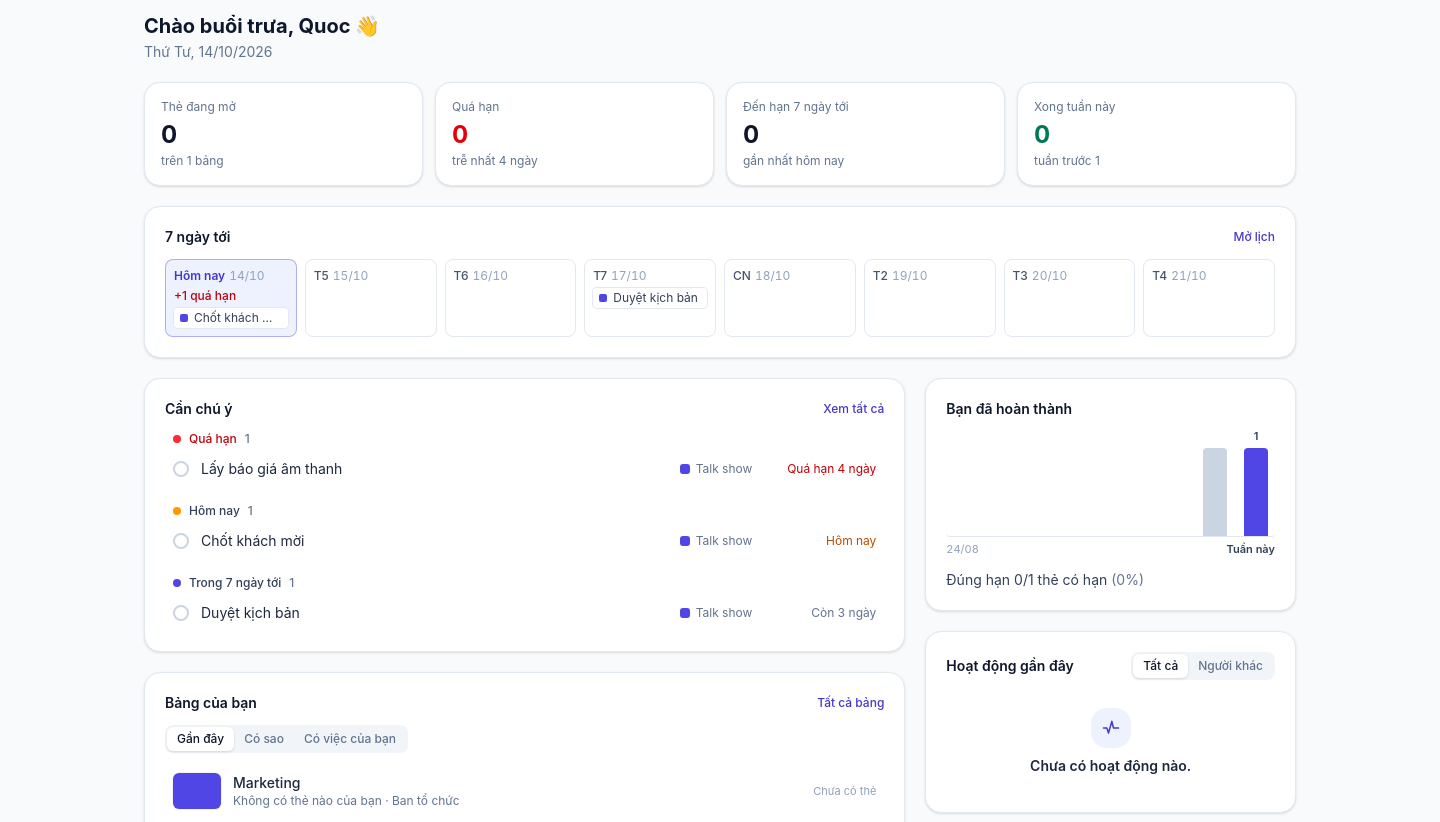
Test case: Tổng quan: khối Cần chú ý › lưu lỗi thì trả ô tick về như cũ và báo lỗi
The width and height of the screenshot is (1440, 822).
What coordinates should you click on to do the following:
click the checkbox named "Đánh dấu hoàn thành thẻ Chốt khách mời"
I would click on:
 (181, 541)
Its box is [173, 533, 189, 549].
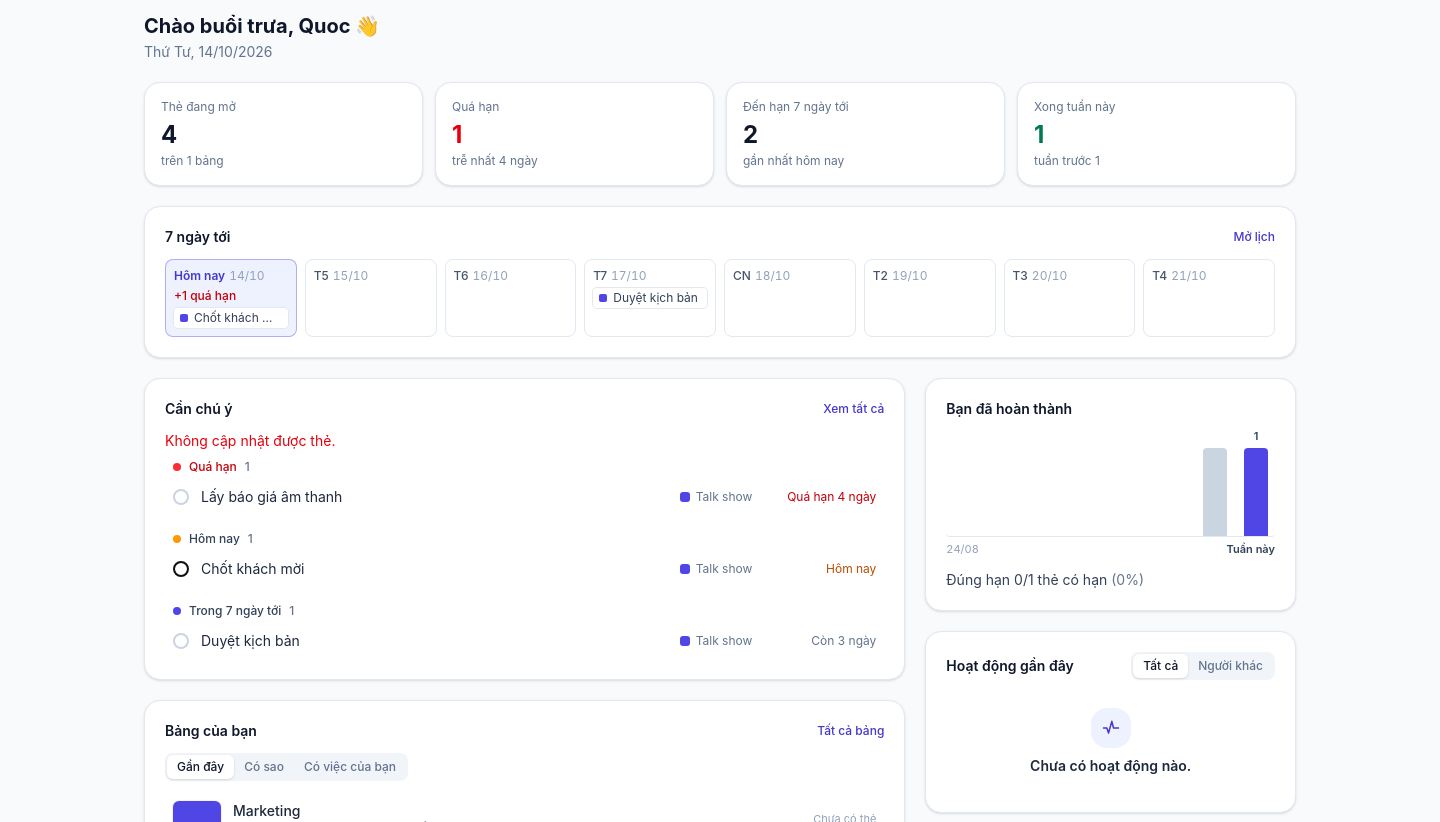
Check: the message reads "Không cập nhật được thẻ.", box [165, 432, 335, 449]
